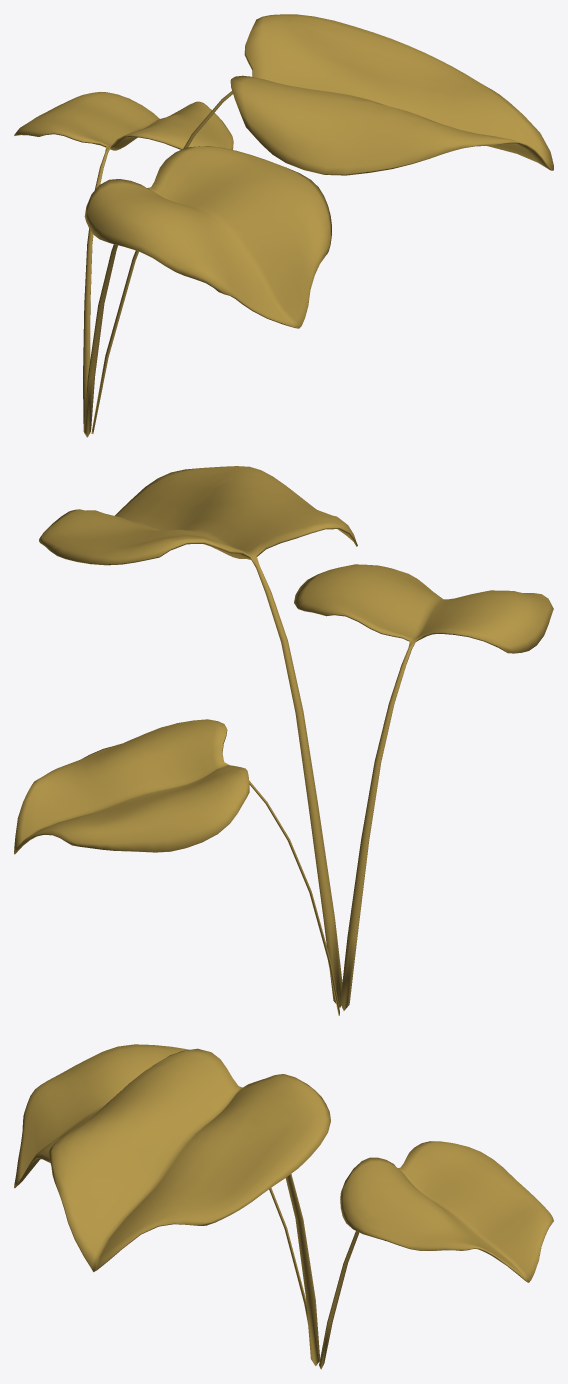
3 renders of one model, top to bottom at view 1: azimuth 30°, elevation 25°; view 2: azimuth 150°, elevation 25°; view 3: azimuth 270°, elevation 25°, orthographic. The views are drawn at different scales.
Visible parts, largest first — view 1: Plane022, Plane023, Plane024; view 2: Plane024, Plane022, Plane023; view 3: Plane022, Plane024, Plane023.
Boxes of the visible parts, x1,y1,x2,y2 form: Plane022: [91, 14, 553, 433]; Plane023: [84, 146, 331, 436]; Plane024: [14, 92, 233, 437]; Plane024: [14, 719, 339, 1015]; Plane022: [39, 466, 357, 1007]; Plane023: [294, 564, 553, 1010]; Plane022: [48, 1048, 330, 1365]; Plane024: [319, 1141, 553, 1369]; Plane023: [14, 1044, 316, 1365].
Bounding box in the file's own units: 138 × 160 × 118.
